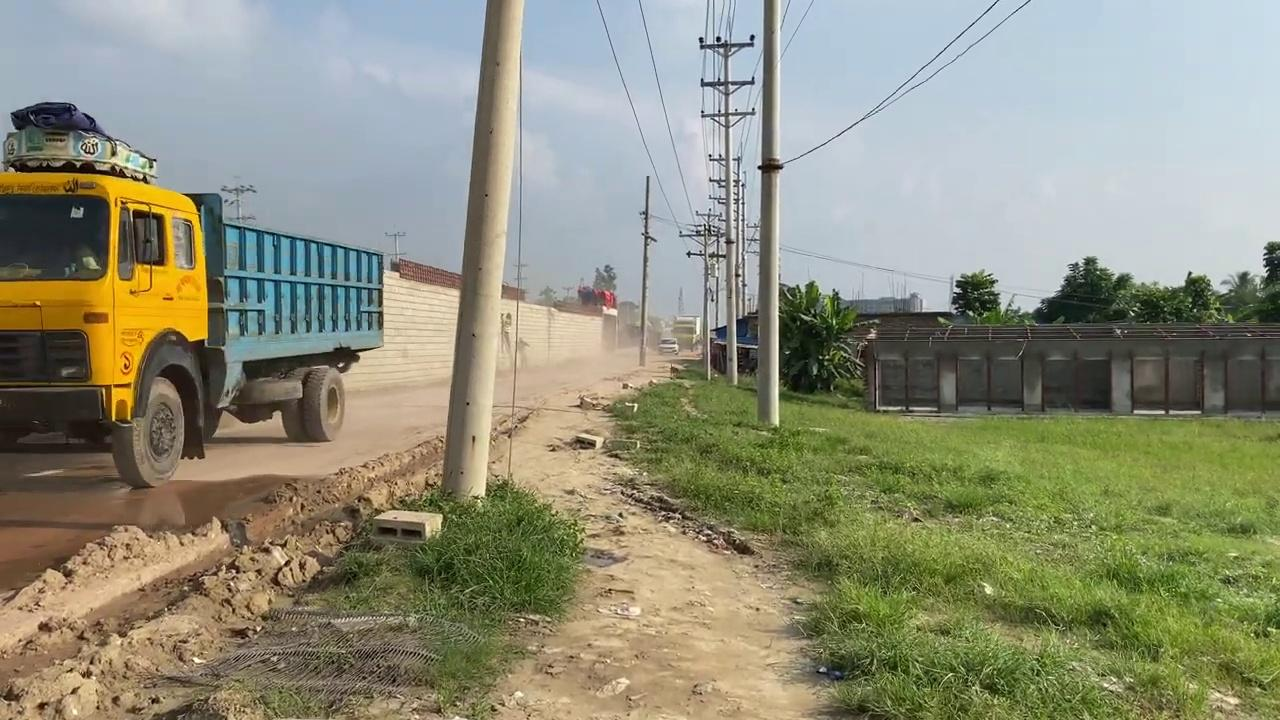Car: (657, 337, 679, 355)
Fence: (862, 321, 1278, 418)
Muddy road: (1, 343, 436, 720)
Obstacle: (369, 508, 443, 546)
Pole: (440, 0, 524, 501), (755, 0, 782, 428), (638, 175, 651, 365)
Rickshaw: (481, 355, 846, 718)
Traffic-sign: (777, 279, 860, 394), (1033, 254, 1134, 323), (949, 268, 1001, 322)
Tree: (0, 99, 385, 488)
Upstairs: (344, 268, 613, 392)
